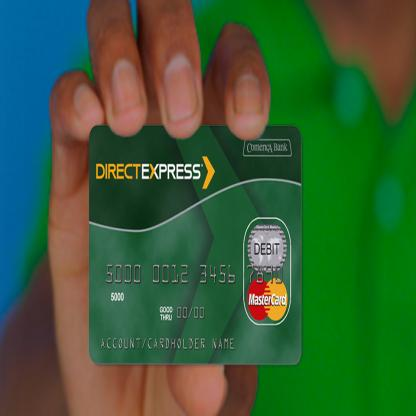tarjeta: (87, 122, 303, 366)
